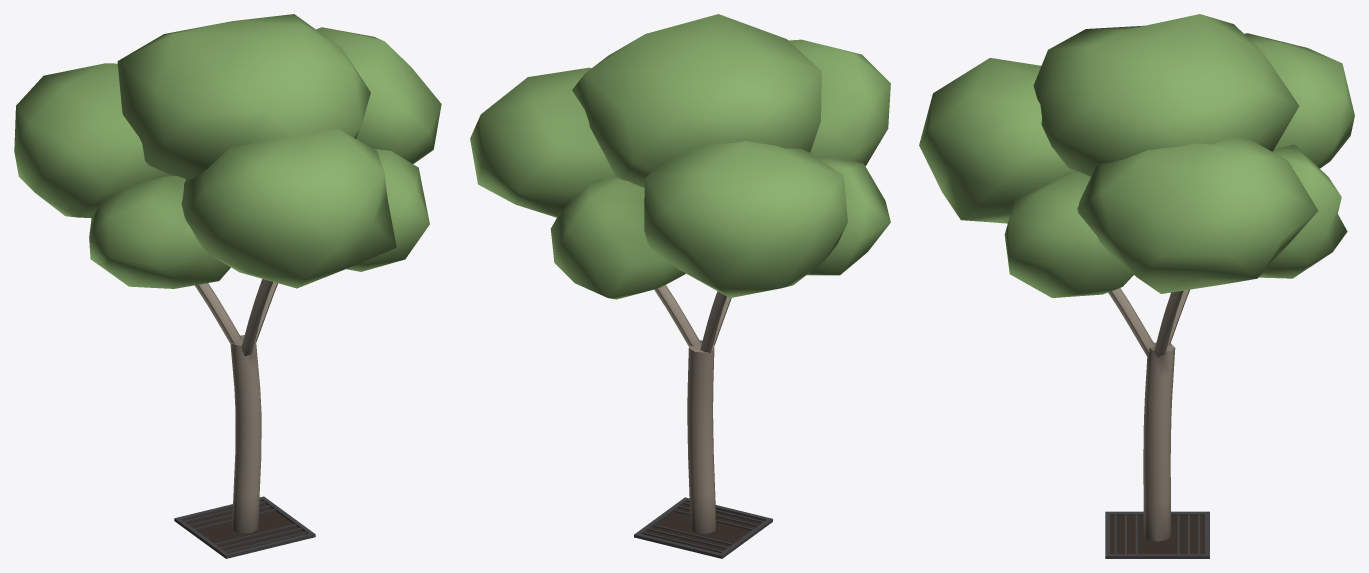
File: tr_zelkova.glb
3 renders of one model, left to right at view 1: azimuth 30°, elevation 25°; view 2: azimuth 150°, elevation 25°; view 3: azimuth 270°, elevation 25°, orthographic. The views are drawn at different scales.
Parts seen in each view (by area): view 1: body; view 2: body; view 3: body.
Part boxes in pixels (x1,y1,x2,y2): body: (14,14,441,558); body: (470,14,890,558); body: (919,14,1354,558).
Size of the model in its own units: 5.44 by 6.85 by 5.41.
